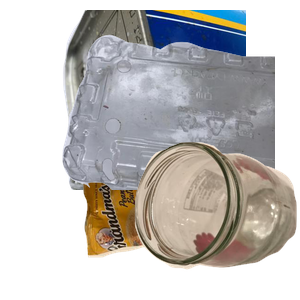glass: (132, 139, 300, 300)
metal: (60, 10, 300, 190)
plastic: (60, 32, 300, 212)
trash: (81, 168, 261, 300)
